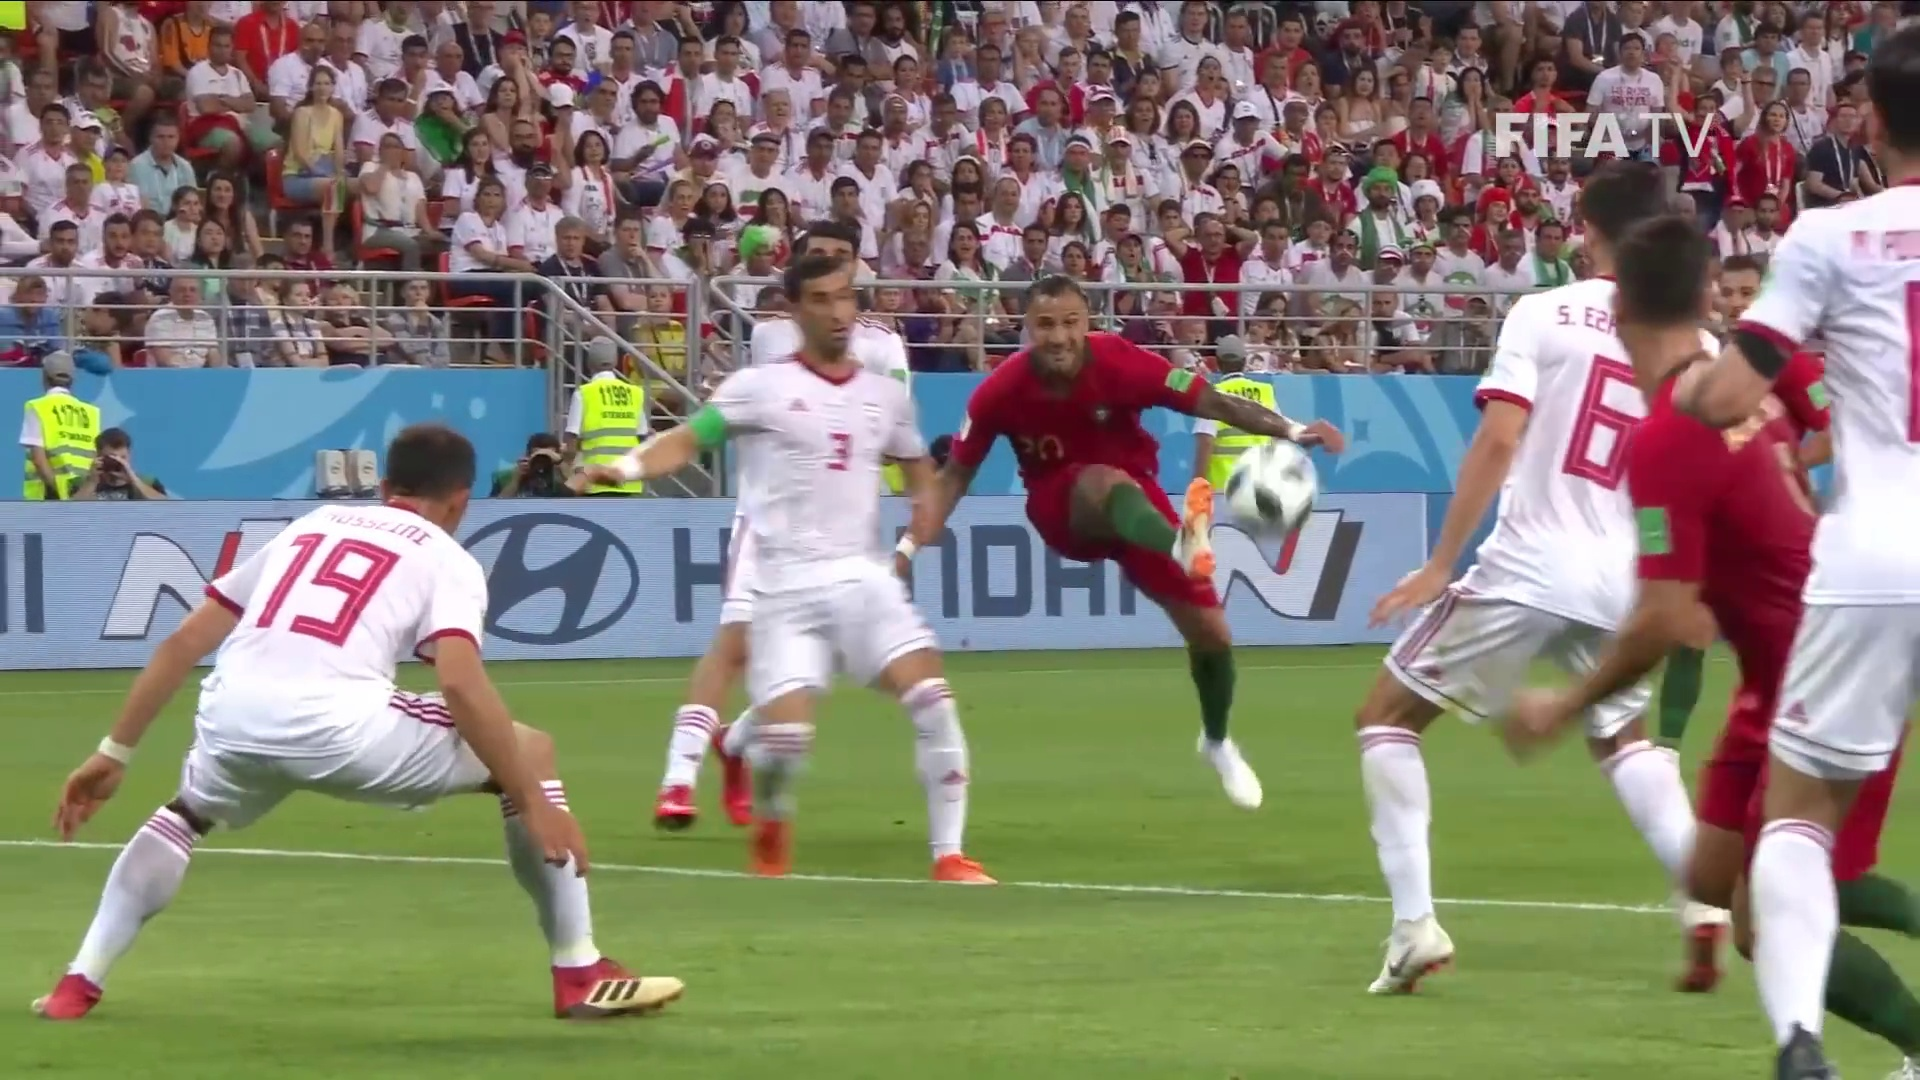ball: (1226, 443, 1319, 534)
person: (51, 430, 684, 1018), (1532, 224, 1917, 1080), (1365, 176, 1709, 982), (1717, 20, 1920, 1080), (690, 253, 1013, 895), (951, 282, 1338, 815)
